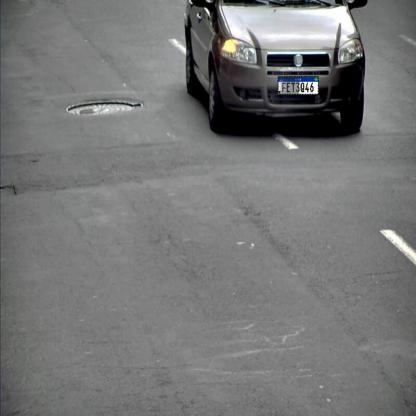PlacaM: (278, 76, 318, 95)
